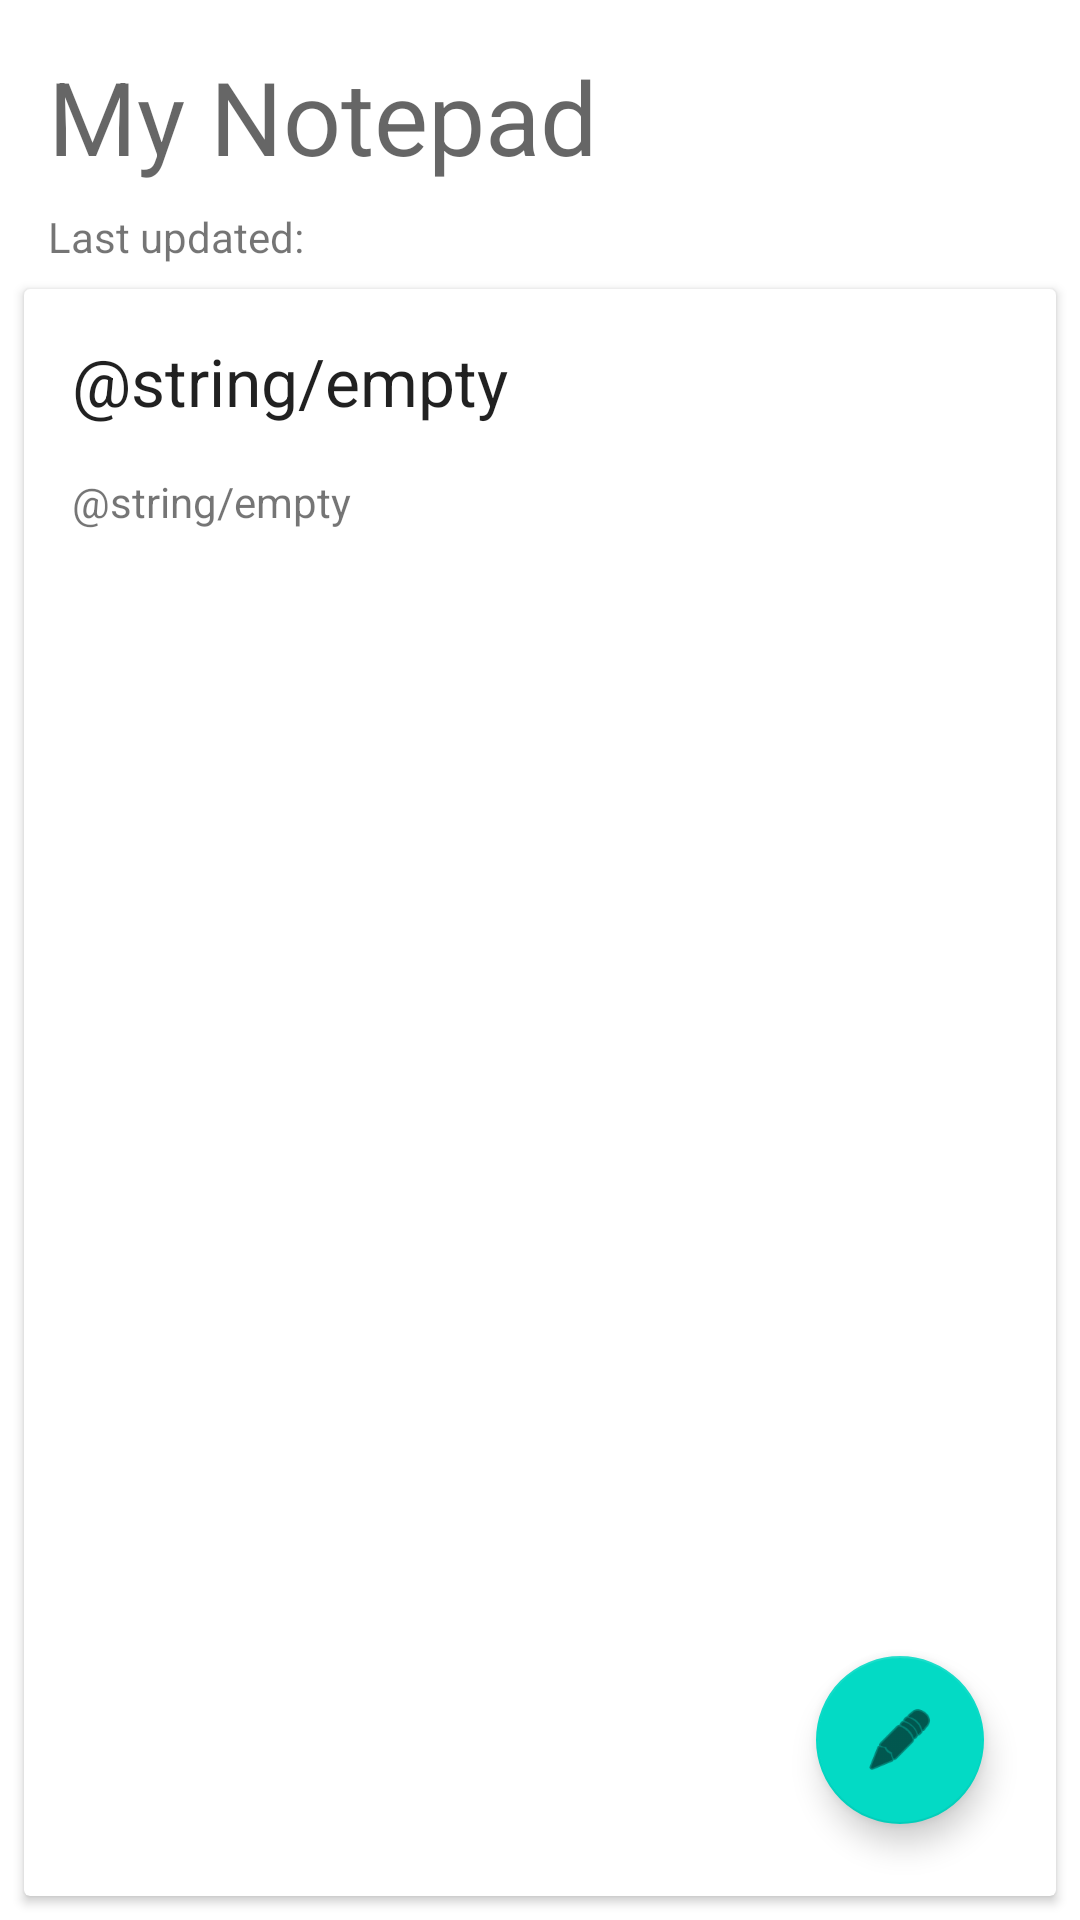

Point at icon controls on the screen. Image size 1080 x 1920, points as [x,y].
edit: [900,1740]
